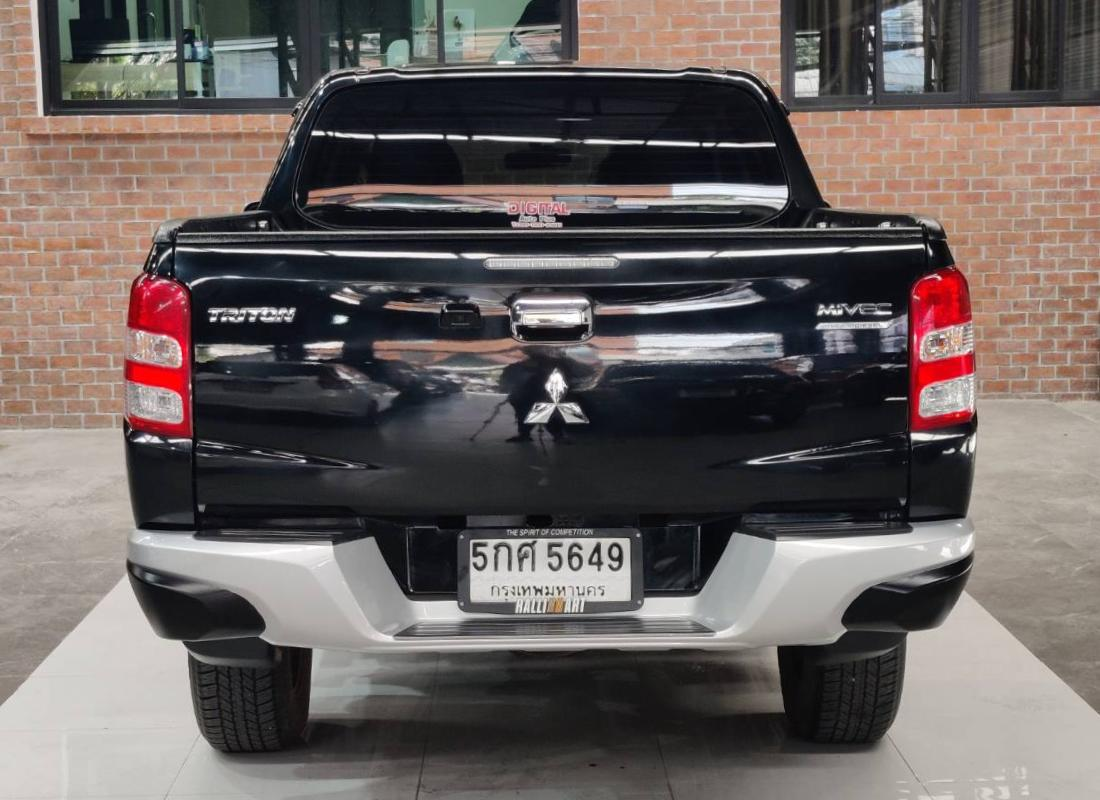license-plate: (457, 528, 646, 613)
